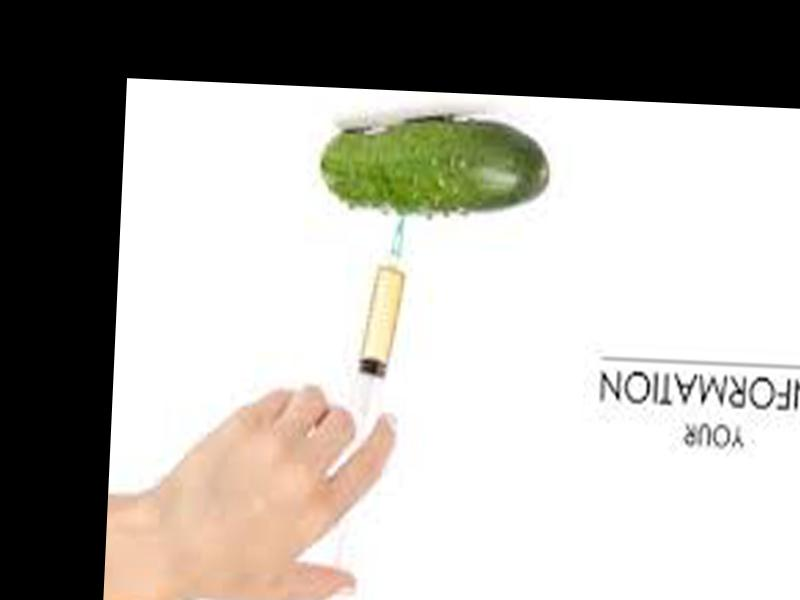Cucumber: (315, 117, 550, 221)
